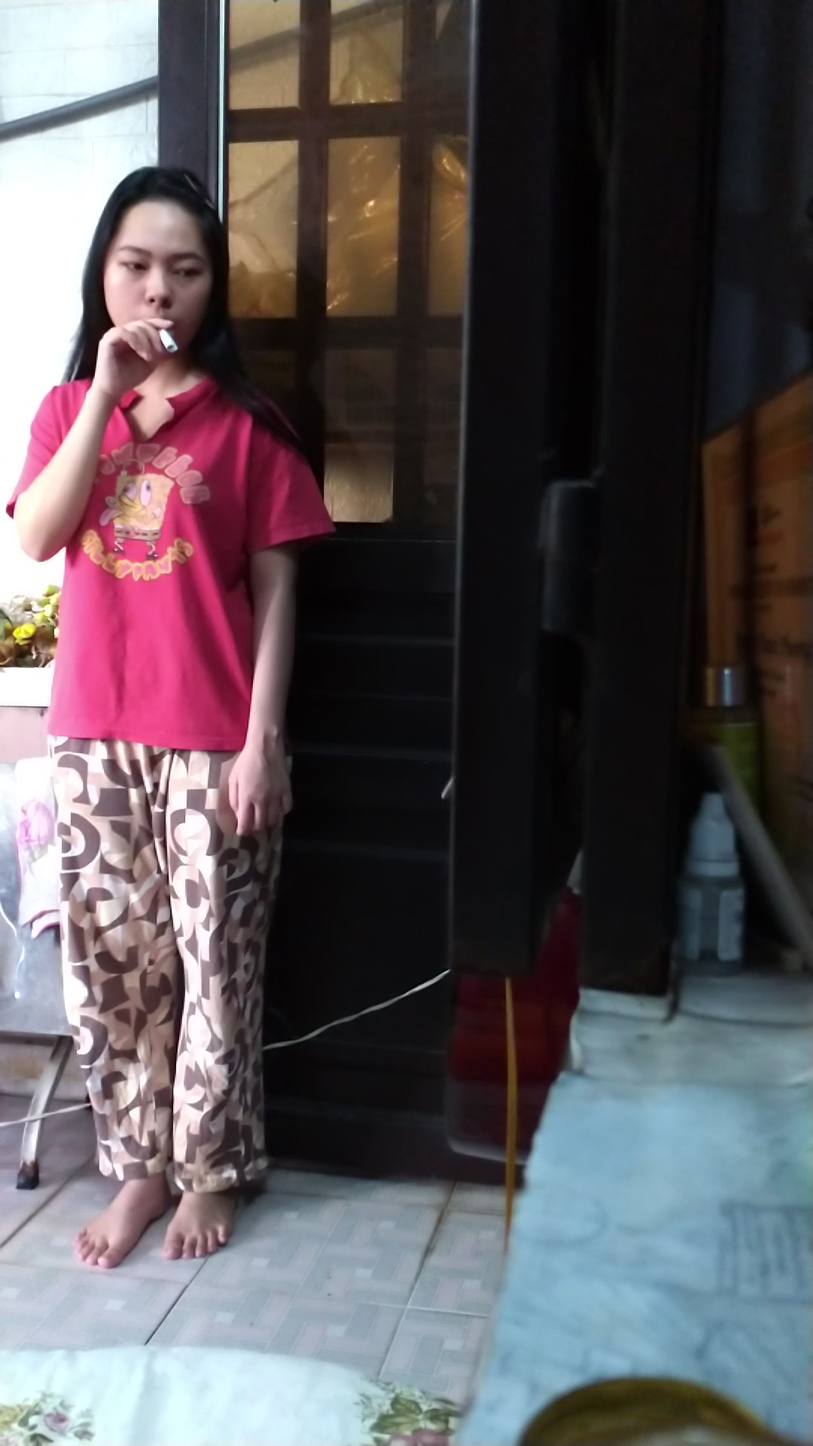cigarette: (156, 328, 180, 358)
person: (5, 113, 334, 1300)
